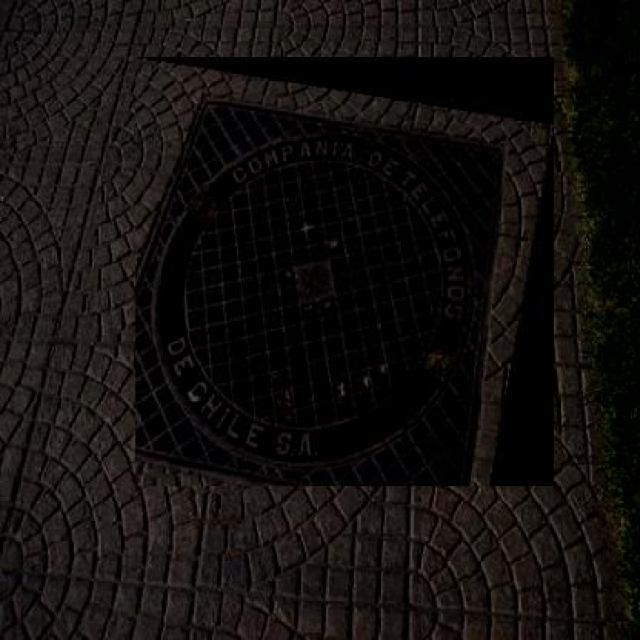Manhole: (135, 57, 554, 486)
